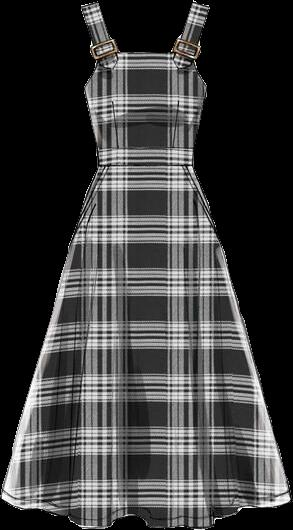Bodice: (81, 1, 209, 167)
Hemline: (0, 493, 291, 529)
Neckline: (93, 1, 196, 58)
Skirt: (1, 166, 290, 529)
Waistline: (96, 162, 194, 172)
